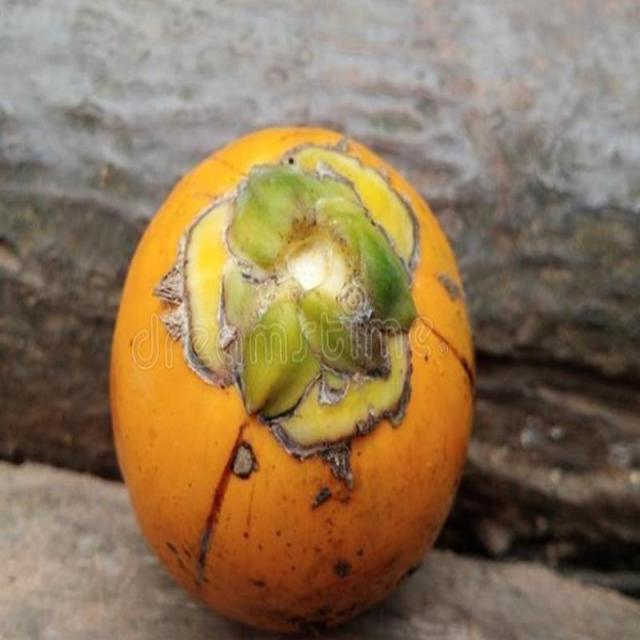good: (109, 128, 475, 634)
